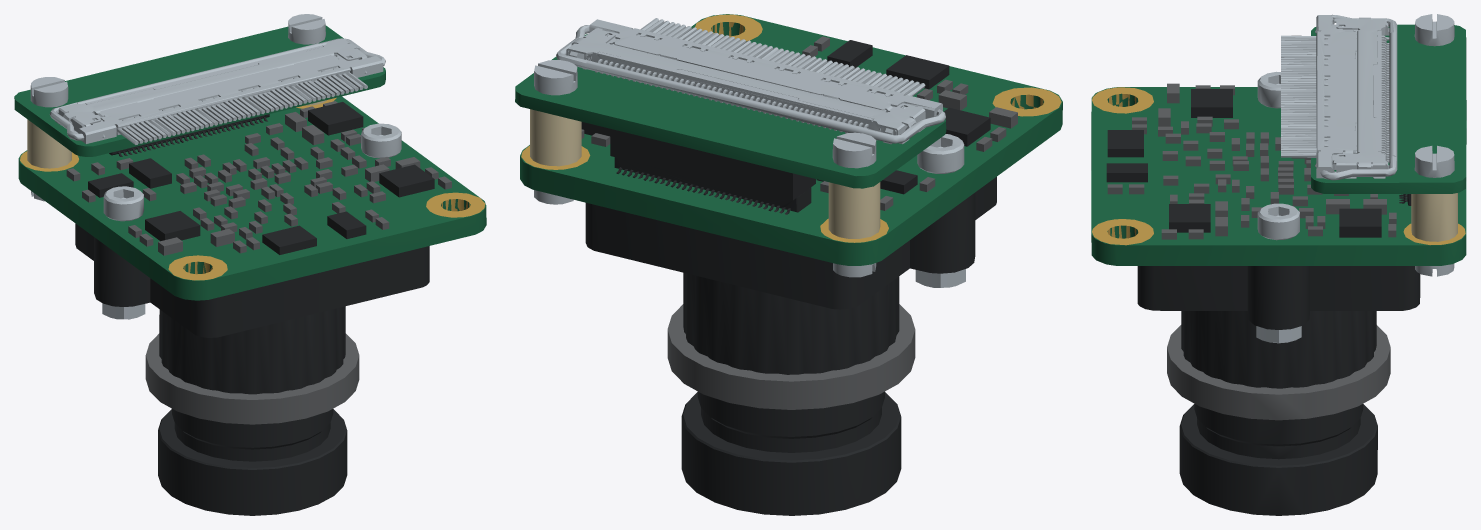
Rendered from cam-main.glb.
3 views of the same model, side by side, from view 1: azimuth 30°, elevation 25°; view 2: azimuth 150°, elevation 25°; view 3: azimuth 270°, elevation 25° (orthographic). The views are drawn at different scales.
Visible parts, largest first — view 1: cam-main; view 2: cam-main; view 3: cam-main.
Part boxes in pixels (box(x1,y1,x2,y2)): cam-main: box(14, 14, 486, 515); cam-main: box(515, 14, 1062, 515); cam-main: box(1091, 14, 1466, 515).
Bounding box in the file's own units: 0.027 × 0.0311 × 0.0265.
